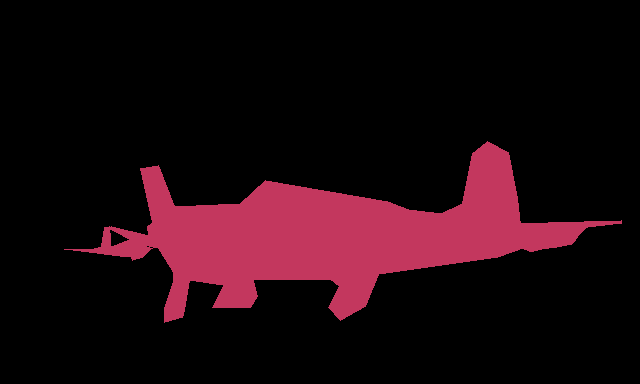Airplane: (106, 141, 577, 323), (511, 220, 622, 251), (64, 226, 152, 260)
